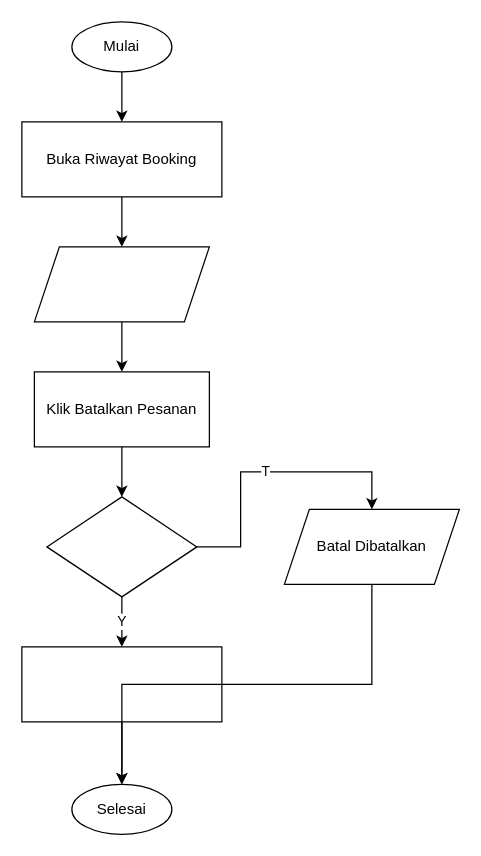
Some shapes in this 481 by 856 pixel diagram are drawn without their labels. Each missing label, with the box of its shape:
Konfirmasi Pembatalan?: (46, 496, 197, 597)
Pilih Booking Aktif: (33, 246, 209, 322)
Update Status: Dibatalkan: (21, 646, 222, 722)
